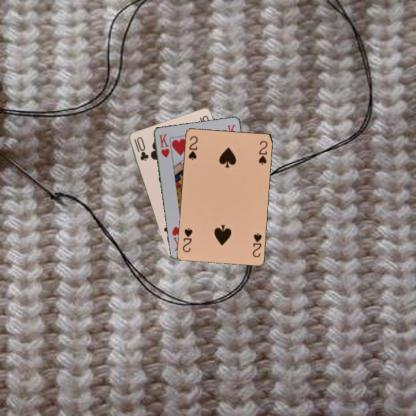10c: (131, 134, 150, 162)
2s: (185, 134, 199, 161), (250, 230, 262, 258)
Kh: (156, 131, 170, 159)
